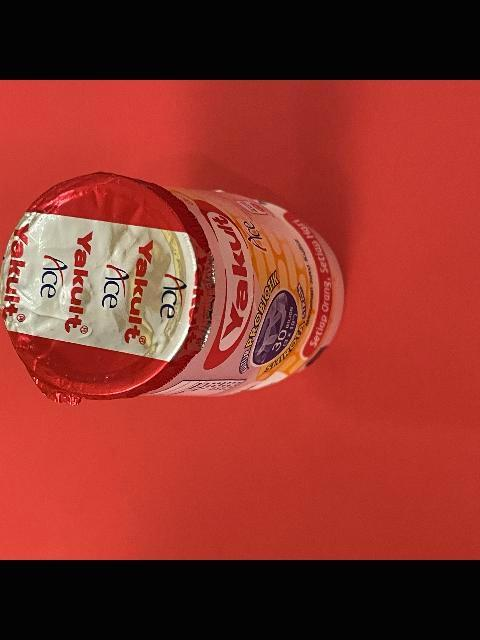plasticbottle: (0, 171, 348, 407)
